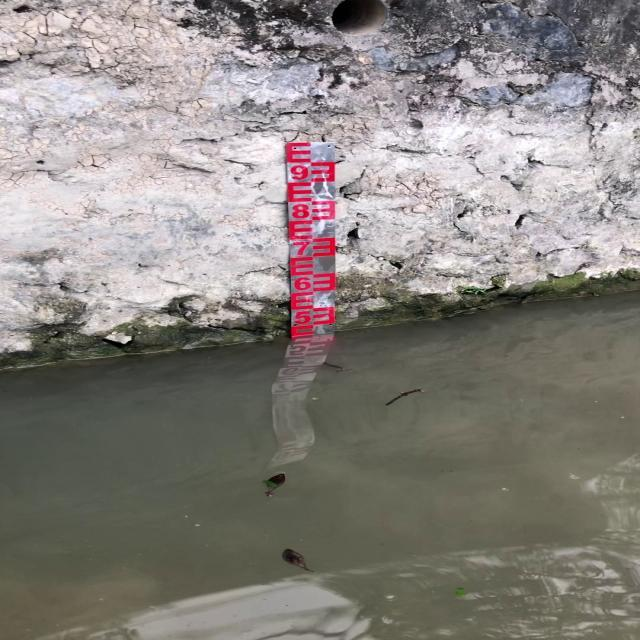ruler: (278, 136, 346, 342)
value: (286, 162, 312, 184), (289, 200, 313, 222), (292, 274, 315, 293), (291, 239, 314, 258), (292, 308, 314, 327)
